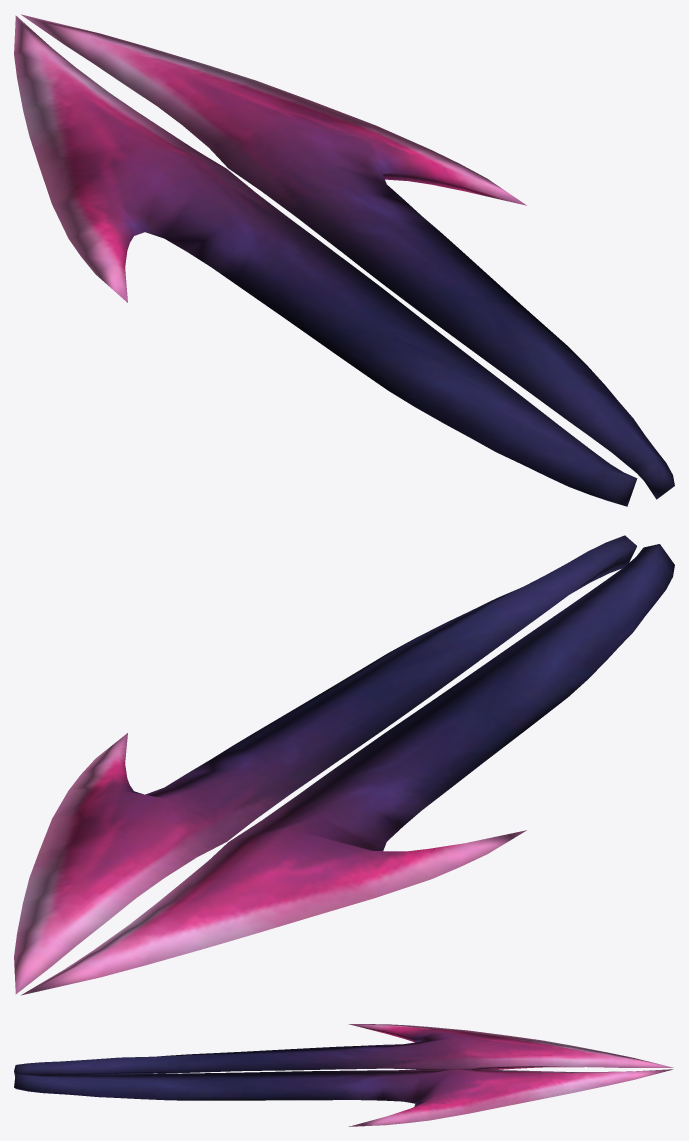
File: tail-3_evelynn_demon_shade.blend.obj
3 views of the same model, one above another, from view 1: azimuth 30°, elevation 25°; view 2: azimuth 150°, elevation 25°; view 3: azimuth 270°, elevation 25° (orthographic). The views are drawn at different scales.
Parts seen in each view (by area): view 1: tail-3_evelynn_demon_shade.blend_Evelynn_Demon.002; view 2: tail-3_evelynn_demon_shade.blend_Evelynn_Demon.002; view 3: tail-3_evelynn_demon_shade.blend_Evelynn_Demon.002.
Boxes of the visible parts, bbox=[...] form: tail-3_evelynn_demon_shade.blend_Evelynn_Demon.002: bbox=[14, 14, 674, 506]; tail-3_evelynn_demon_shade.blend_Evelynn_Demon.002: bbox=[14, 535, 674, 995]; tail-3_evelynn_demon_shade.blend_Evelynn_Demon.002: bbox=[14, 1024, 673, 1126].
Size of the model in its own units: 0.8408 by 0.1379 by 2.28.
Materials: 1 (1 with a texture image).
